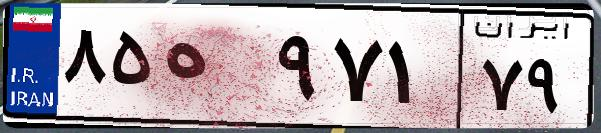1: (385, 28, 445, 110)
5: (110, 28, 158, 98)
7: (330, 28, 385, 110), (475, 38, 525, 113)
8: (57, 26, 110, 100)
9: (270, 28, 330, 110), (525, 38, 570, 115)
ه: (158, 20, 270, 120)
